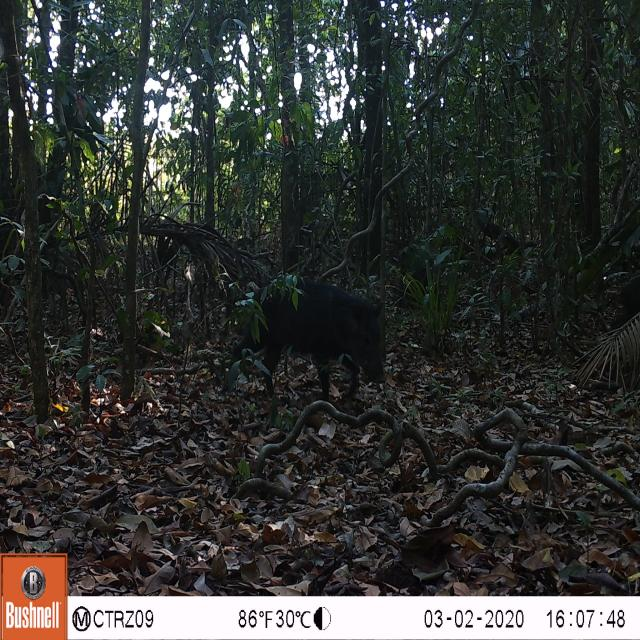White-lipped Peccary: (215, 241, 396, 403)
